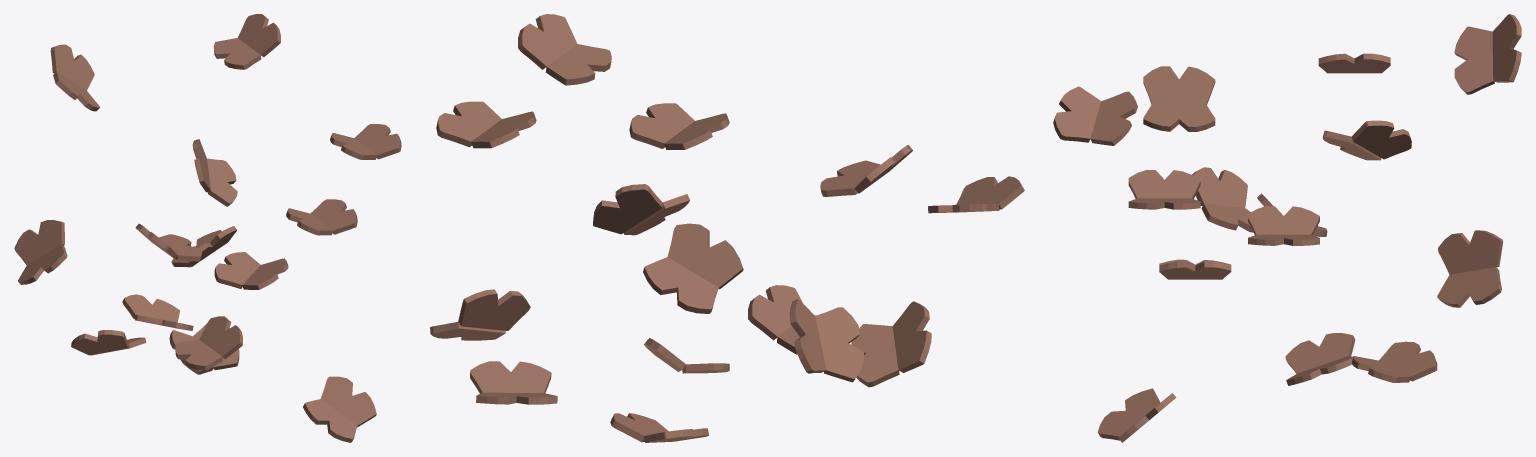
File: Moths.fbx
3 renders of one model, left to right at view 1: azimuth 30°, elevation 25°; view 2: azimuth 150°, elevation 25°; view 3: azimuth 270°, elevation 25°, orthographic. The views are drawn at different scales.
Visible parts, largest first — view 1: Cube.013; view 2: Cube.013; view 3: Cube.013.
Boxes of the visible parts, bbox=[...] form: Cube.013: bbox=[14, 14, 401, 442]; Cube.013: bbox=[430, 14, 1024, 442]; Cube.013: bbox=[1053, 14, 1521, 442].
Bounding box in the file's own units: 128 × 120 × 127.
